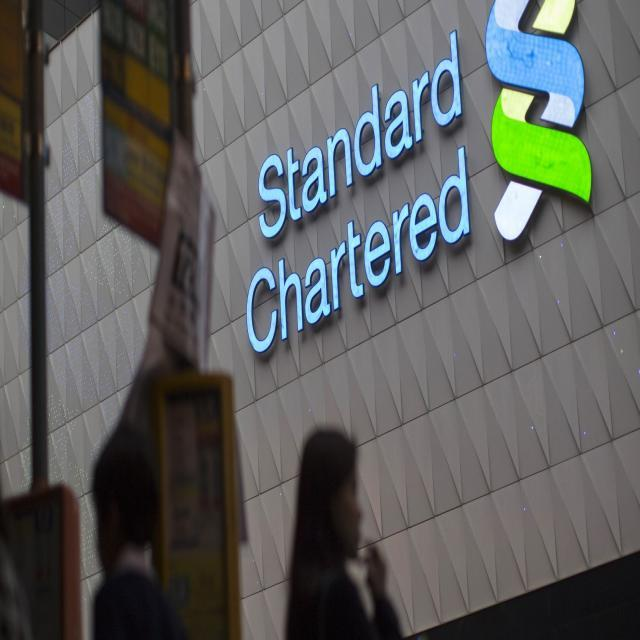Standard Chartered: (246, 0, 594, 358)
